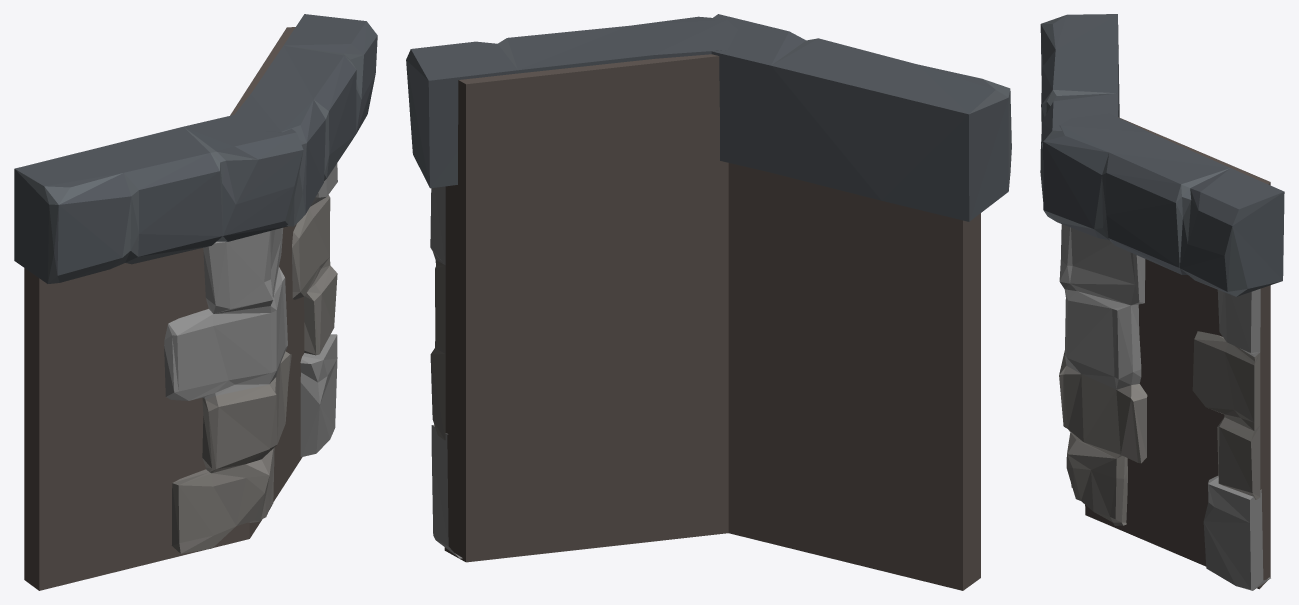
File: MCastle_OctWalls_HeavyTrim_02.FBX
3 renders of one model, left to right at view 1: azimuth 30°, elevation 25°; view 2: azimuth 150°, elevation 25°; view 3: azimuth 270°, elevation 25°, orthographic. The views are drawn at different scales.
Parts seen in each view (by area): view 1: MCastle_OctWalls_HeavyTrim_02_LOD0; view 2: MCastle_OctWalls_HeavyTrim_02_LOD0; view 3: MCastle_OctWalls_HeavyTrim_02_LOD0.
Part boxes in pixels (bbox=[...]): MCastle_OctWalls_HeavyTrim_02_LOD0: bbox=[14, 14, 377, 590]; MCastle_OctWalls_HeavyTrim_02_LOD0: bbox=[406, 14, 1011, 590]; MCastle_OctWalls_HeavyTrim_02_LOD0: bbox=[1040, 14, 1284, 590].
Size of what is drawn, in the model's own units: 4.83 by 4.5 by 2.49.
